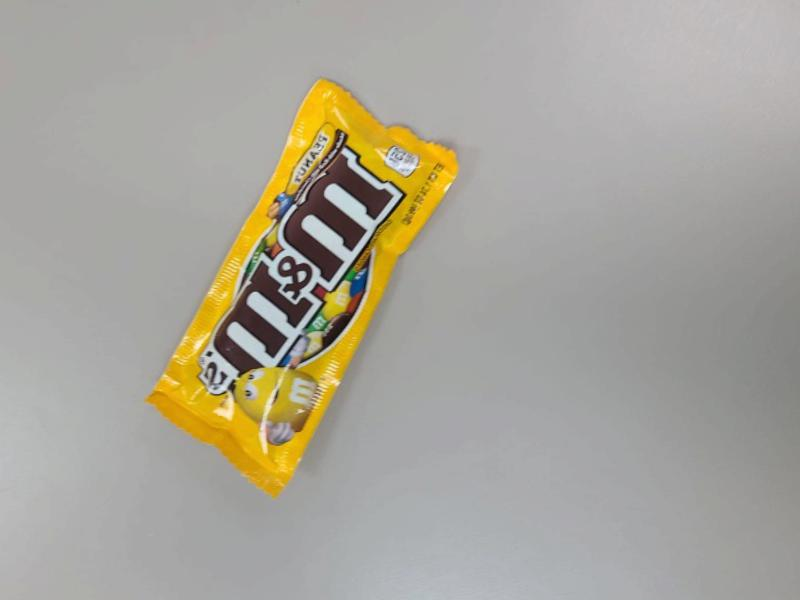m&m: (133, 30, 454, 515)
